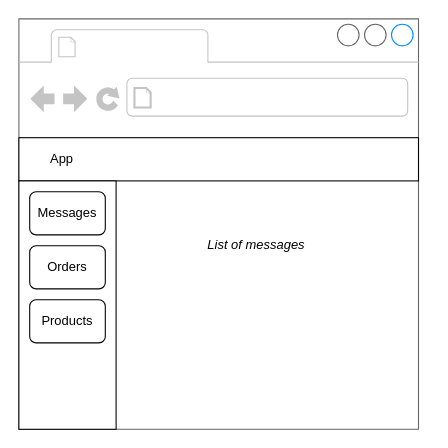
The diagram is 448 pixels wide and 448 high, and some of its shapes have lost their labels. Each missing label, with the centre of its shape:
app.com/: [293,97]
Page 1: [142,45]
